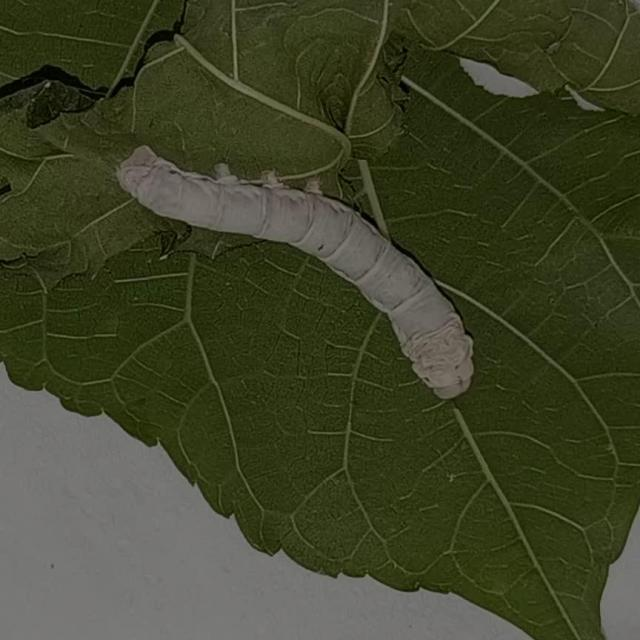Healthy: (112, 144, 492, 408)
